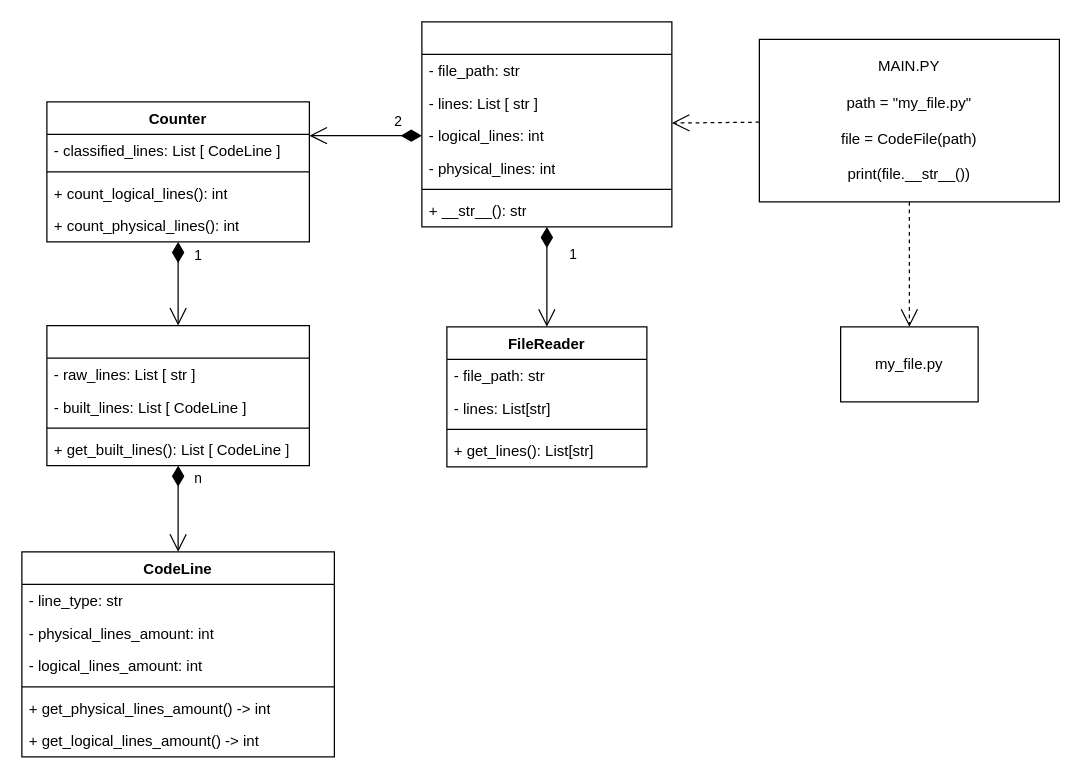
The diagram is 1081 pixels wide and 783 high, and some of its shapes have lost their labels. The box of each missing label's shape, as (x1, y1, x2, y2) in pixels:
CodeFile: (421, 21, 672, 227)
LineBuilder: (46, 324, 309, 466)
